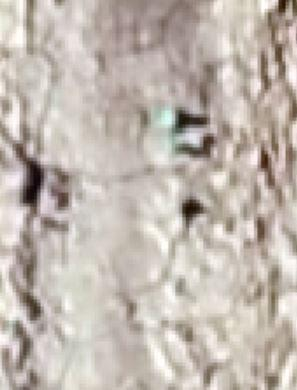cotton: (154, 107, 177, 130), (165, 137, 176, 155)
